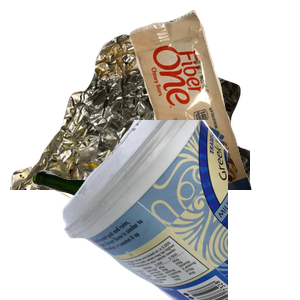glass: (29, 167, 241, 300)
metal: (10, 32, 250, 212)
plastic: (60, 120, 300, 300)
trash: (127, 10, 300, 190)
